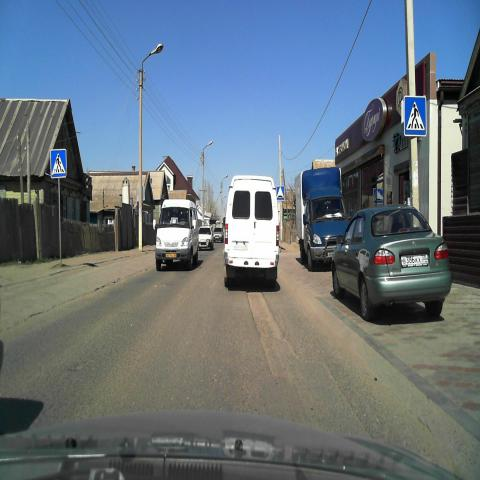5_20: (276, 185, 286, 201)
